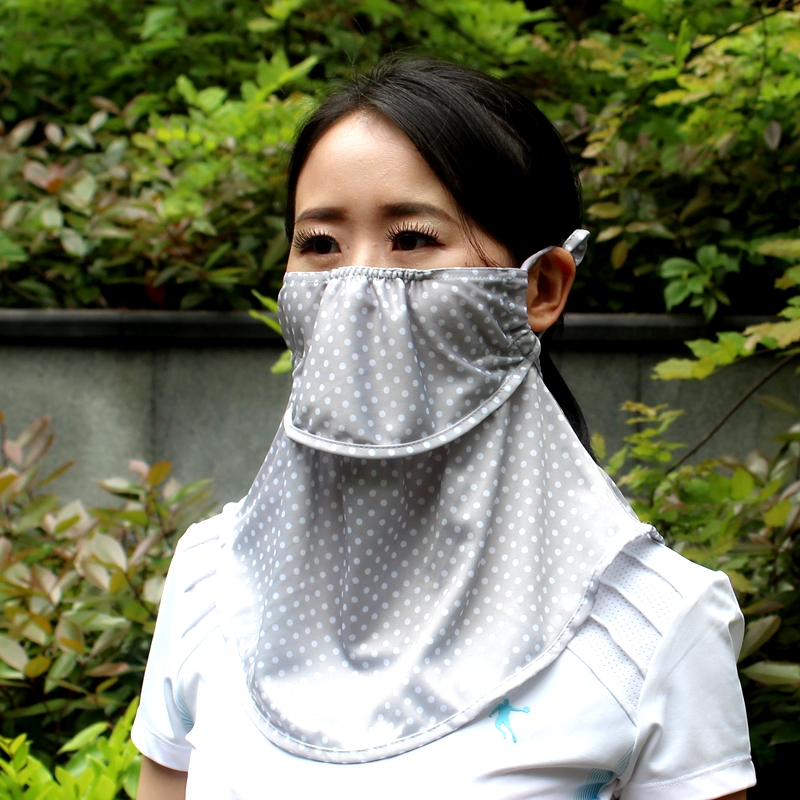face_mask: (280, 117, 502, 429)
